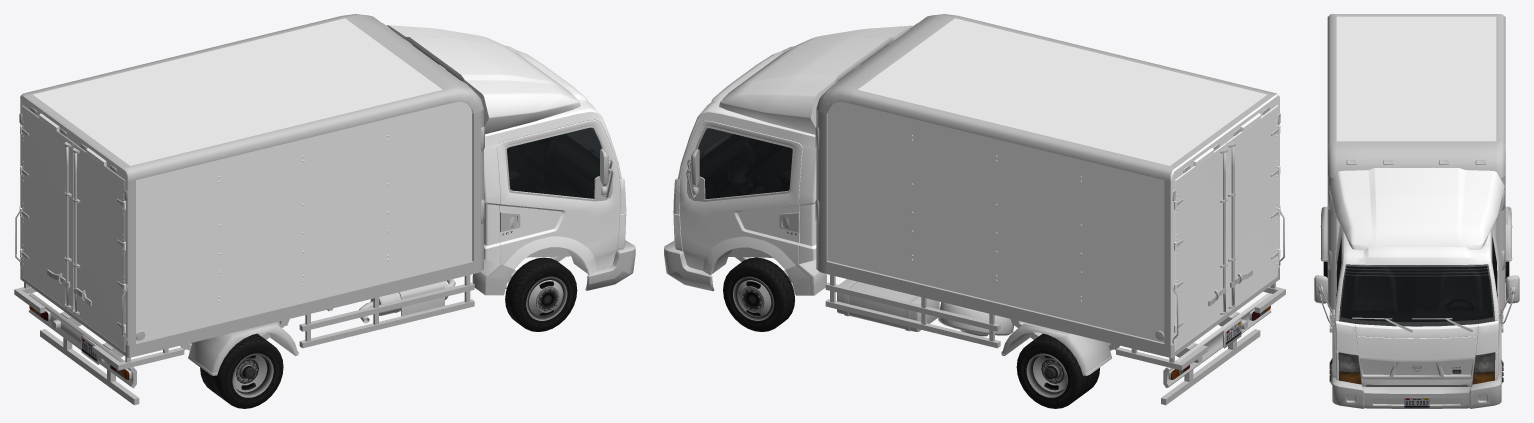
File: LCT13_07.fbx
3 renders of one model, left to right at view 1: azimuth 30°, elevation 25°; view 2: azimuth 150°, elevation 25°; view 3: azimuth 270°, elevation 25°, orthographic. The views are drawn at different scales.
Parts seen in each view (by area): view 1: LCT300007_Body, LCT300007_Bottom, LCT300007_Reardoor_Left, LCT300007_Reardoor_Right, LCT300007_Glass_Driver, LCT300007_interior, LCT300007_WheelStock_FR, LCT300007_WheelStock_RR, LCT300007_Bumper_rear, LCT300007_BUMPER_FRONT, LCT300007_Reardoor_Left_Inner, LCT300007_Reardoor_Right_Inner; view 2: LCT300007_Body, LCT300007_Bottom, LCT300007_Reardoor_Right, LCT300007_Reardoor_Left, LCT300007_Glass_Driver, LCT300007_WheelStock_FR, LCT300007_interior, LCT300007_WheelStock_RL, LCT300007_Bumper_rear, LCT300007_BUMPER_FRONT, LCT300007_Reardoor_Right_Inner, LCT300007_Reardoor_Left_Inner (+1 smaller); view 3: LCT300007_Body, LCT300007_Bottom, LCT300007_Windshield, LCT300007_interior, LCT300007_BUMPER_FRONT, LCT300007_Headlight_Glass, LCT300007_Headlights, LCT300007_BUMPER_FRONT_INNER, LCT300007_Taillights_Glass, LCT300007_Blinkers, LCT300007_Numberplate_front, LCT300007_Steering_Wheel.
Boxes of the visible parts, x1=… form: LCT300007_Body: x1=20, y1=18, x2=626, y2=345; LCT300007_Bottom: x1=14, y1=14, x2=613, y2=405; LCT300007_Reardoor_Left: x1=22, y1=105, x2=73, y2=314; LCT300007_Reardoor_Right: x1=73, y1=143, x2=125, y2=352; LCT300007_Glass_Driver: x1=507, y1=128, x2=601, y2=198; LCT300007_interior: x1=508, y1=134, x2=599, y2=198; LCT300007_WheelStock_FR: x1=505, y1=257, x2=577, y2=331; LCT300007_WheelStock_RR: x1=200, y1=333, x2=283, y2=408; LCT300007_Bumper_rear: x1=28, y1=293, x2=136, y2=388; LCT300007_BUMPER_FRONT: x1=585, y1=240, x2=635, y2=290; LCT300007_Reardoor_Left_Inner: x1=21, y1=128, x2=71, y2=308; LCT300007_Reardoor_Right_Inner: x1=73, y1=147, x2=125, y2=327; LCT300007_Body: x1=673, y1=18, x2=1280, y2=345; LCT300007_Bottom: x1=686, y1=14, x2=1285, y2=405; LCT300007_Reardoor_Right: x1=1226, y1=105, x2=1277, y2=314; LCT300007_Reardoor_Left: x1=1174, y1=143, x2=1226, y2=352; LCT300007_Glass_Driver: x1=698, y1=128, x2=792, y2=199; LCT300007_WheelStock_FR: x1=723, y1=257, x2=794, y2=331; LCT300007_interior: x1=700, y1=134, x2=792, y2=198; LCT300007_WheelStock_RL: x1=1016, y1=333, x2=1099, y2=408; LCT300007_Bumper_rear: x1=1163, y1=293, x2=1271, y2=387; LCT300007_BUMPER_FRONT: x1=664, y1=241, x2=714, y2=291; LCT300007_Reardoor_Right_Inner: x1=1228, y1=128, x2=1278, y2=308; LCT300007_Reardoor_Left_Inner: x1=1177, y1=147, x2=1227, y2=327; LCT300007_Body: x1=1329, y1=16, x2=1504, y2=386; LCT300007_Bottom: x1=1314, y1=14, x2=1519, y2=386; LCT300007_Windshield: x1=1339, y1=264, x2=1494, y2=326; LCT300007_interior: x1=1337, y1=239, x2=1497, y2=321; LCT300007_BUMPER_FRONT: x1=1332, y1=377, x2=1501, y2=408; LCT300007_Headlight_Glass: x1=1338, y1=352, x2=1495, y2=372; LCT300007_Headlights: x1=1339, y1=352, x2=1494, y2=371; LCT300007_BUMPER_FRONT_INNER: x1=1347, y1=395, x2=1486, y2=404; LCT300007_Taillights_Glass: x1=1339, y1=371, x2=1494, y2=384; LCT300007_Blinkers: x1=1339, y1=372, x2=1494, y2=383; LCT300007_Numberplate_front: x1=1404, y1=397, x2=1429, y2=407; LCT300007_Steering_Wheel: x1=1445, y1=298, x2=1475, y2=310.
Size of the model in its own units: 5.86 by 2.84 by 2.43.
